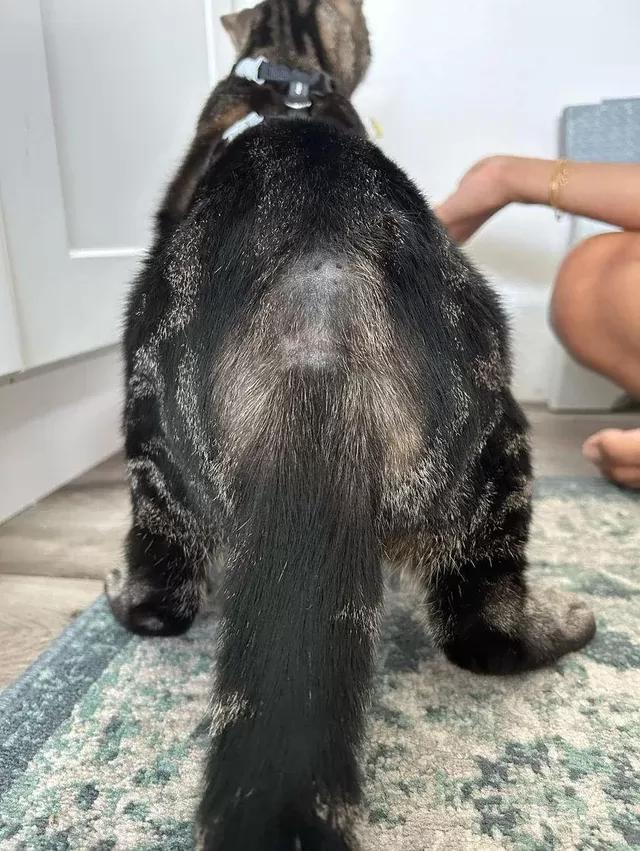hairloss: (278, 239, 371, 387)
